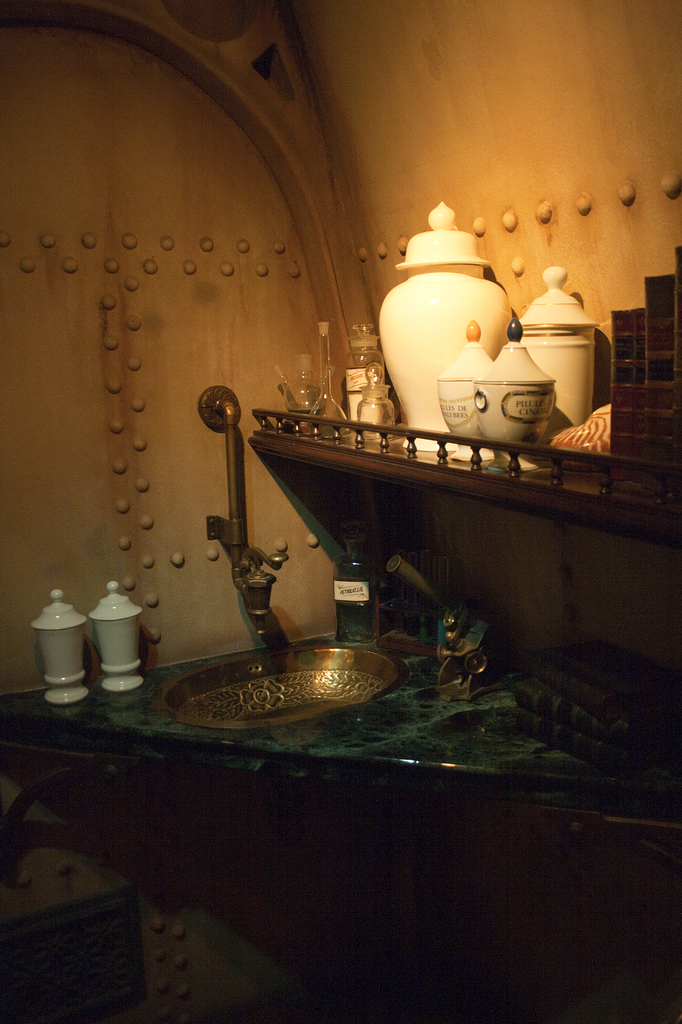tap: (231, 549, 283, 638)
